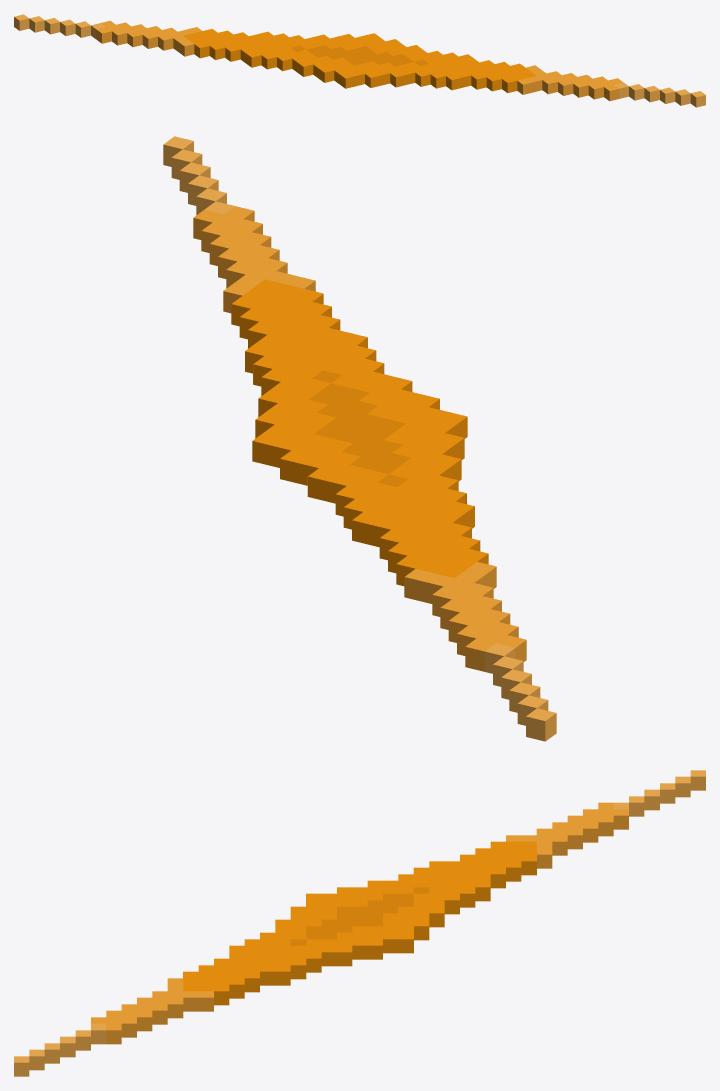
File: VoidLordFadingHopeEye.obj
The picture shows the model from 3 angles, top to bottom: view 1: azimuth 30°, elevation 25°; view 2: azimuth 150°, elevation 25°; view 3: azimuth 270°, elevation 25°; orthographic projection. The views are drawn at different scales.
Parts seen in each view (by area): view 1: VoidLordFadingHopeEye; view 2: VoidLordFadingHopeEye; view 3: VoidLordFadingHopeEye.
Part boxes in pixels (x1,y1,x2,y2): VoidLordFadingHopeEye: [14, 14, 705, 107]; VoidLordFadingHopeEye: [163, 136, 556, 741]; VoidLordFadingHopeEye: [14, 770, 705, 1076].
Size of the model in its own units: 45 by 1 by 45.
Materials: 1 (1 with a texture image).
